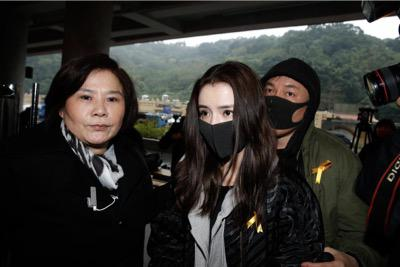with_mask: (194, 103, 246, 163), (260, 80, 309, 140)
without_mask: (61, 87, 127, 146)
